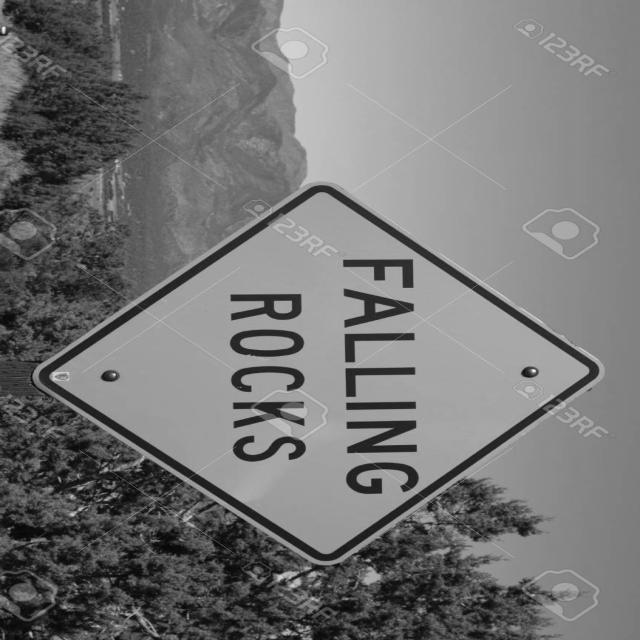falling rocks: (26, 171, 615, 574)
